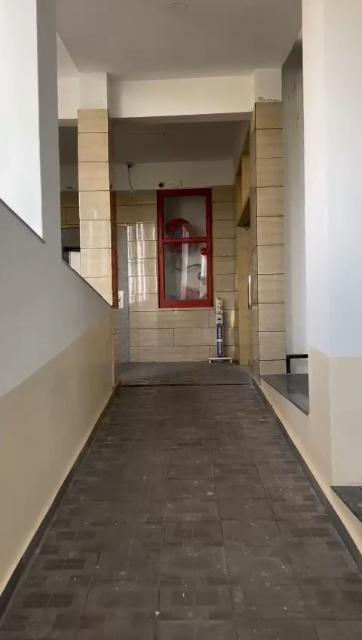floor: (0, 367, 361, 640)
wall: (0, 0, 113, 583), (293, 0, 362, 465), (80, 74, 118, 390), (254, 102, 286, 358), (254, 106, 286, 360), (130, 230, 156, 358), (210, 187, 236, 295), (160, 310, 205, 360), (119, 192, 160, 224)
